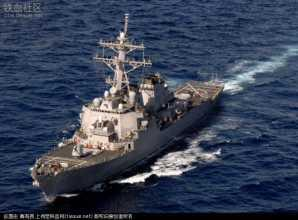warship: (30, 18, 239, 200)
